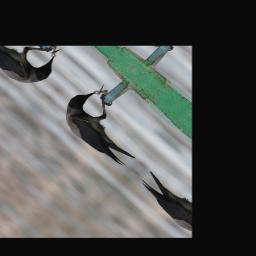Crow: (52, 81, 158, 174)
